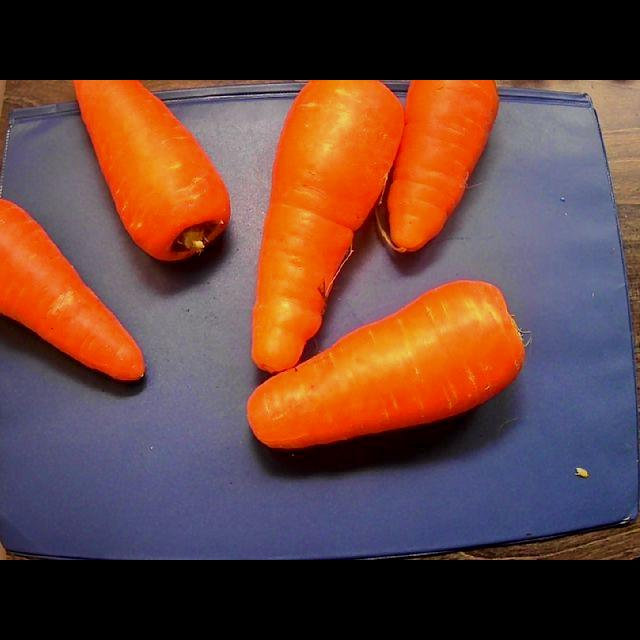zanahoria: (248, 280, 524, 448), (252, 80, 402, 372), (73, 80, 229, 260), (0, 199, 144, 380), (385, 80, 498, 250)
